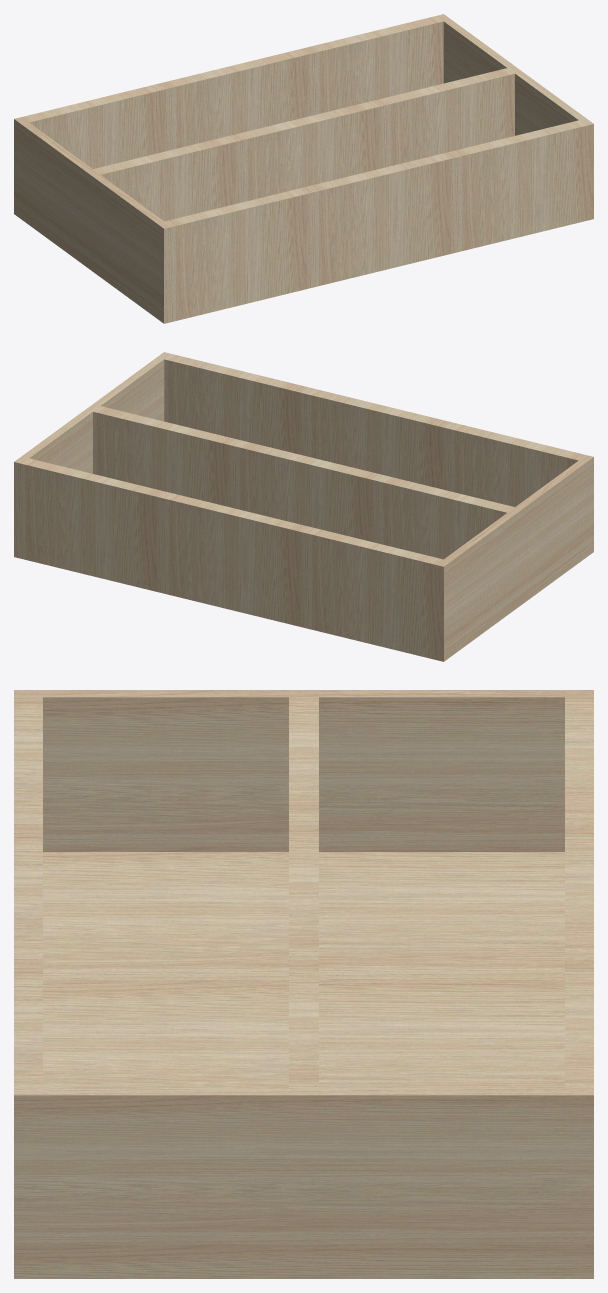
The model's file is CassetteRack.FBX.
The picture shows the model from 3 angles, top to bottom: view 1: azimuth 30°, elevation 25°; view 2: azimuth 150°, elevation 25°; view 3: azimuth 270°, elevation 25°; orthographic projection. The views are drawn at different scales.
Parts seen in each view (by area): view 1: the footwear stand; view 2: the footwear stand; view 3: the footwear stand.
Boxes of the visible parts, x1=… form: the footwear stand: x1=14, y1=14, x2=593, y2=323; the footwear stand: x1=14, y1=352, x2=593, y2=661; the footwear stand: x1=14, y1=690, x2=593, y2=1278.
Size of the model in its own units: 67.92 by 14.36 by 41.1.
1 material, 1 textured.
